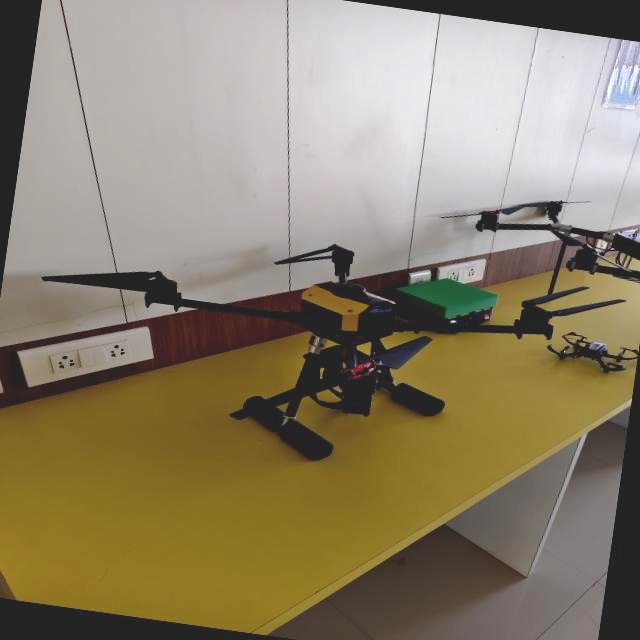quadcopter: (12, 186, 632, 501)
